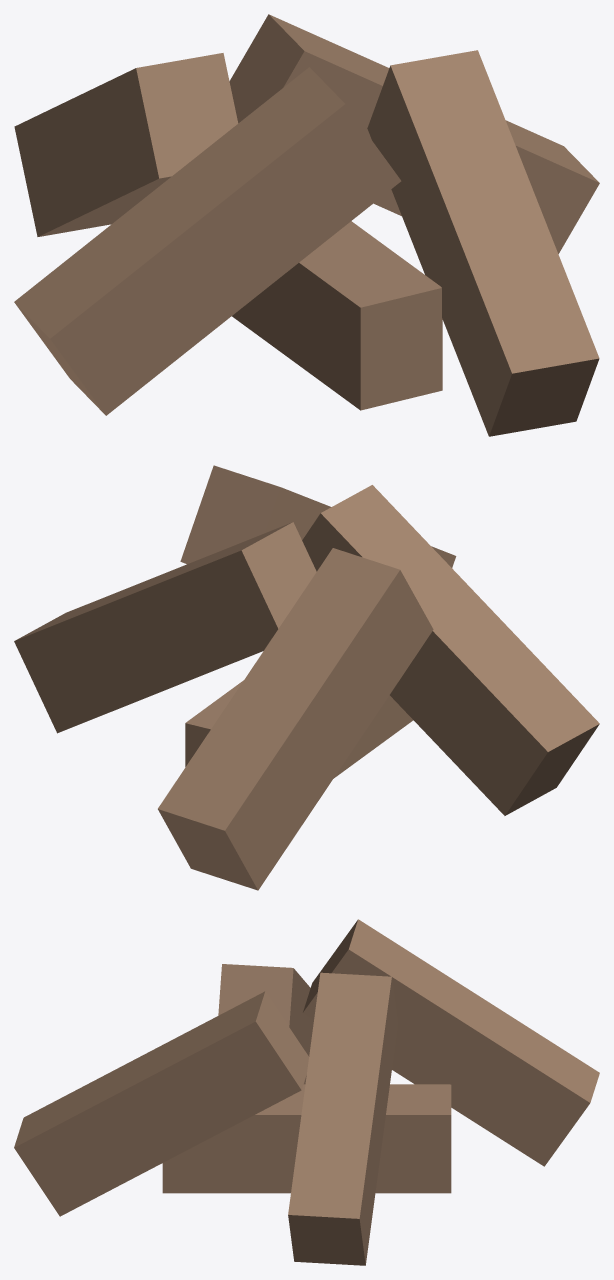
The model's file is Fire.fbx.
3 renders of one model, top to bottom at view 1: azimuth 30°, elevation 25°; view 2: azimuth 150°, elevation 25°; view 3: azimuth 270°, elevation 25°, orthographic. The views are drawn at different scales.
Visible parts, largest first — view 1: SmoothBlockModel1.001; view 2: SmoothBlockModel1.001; view 3: SmoothBlockModel1.001.
Part boxes in pixels (box(x1,y1,x2,y2)): SmoothBlockModel1.001: box(14, 14, 599, 436); SmoothBlockModel1.001: box(14, 465, 599, 890); SmoothBlockModel1.001: box(14, 919, 599, 1265).
Size of the model in its own units: 1.42 by 0.6355 by 1.62.
